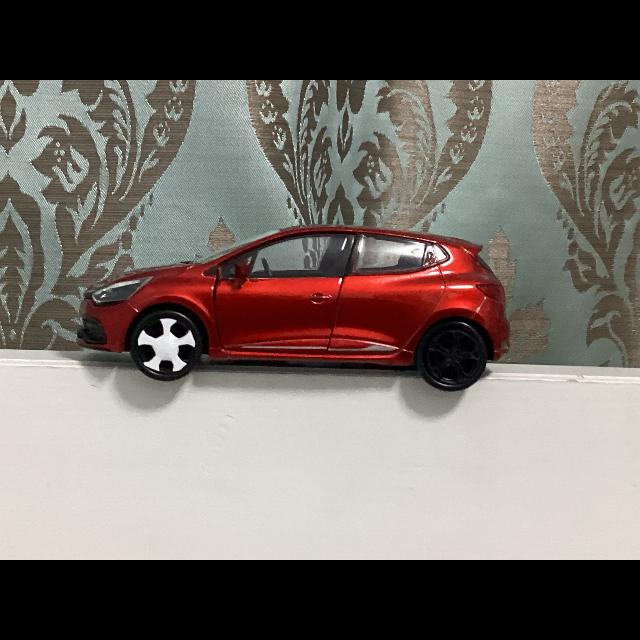Dogru_Jant: (427, 330, 481, 382)
Yanlis_Jant: (138, 317, 196, 375)
